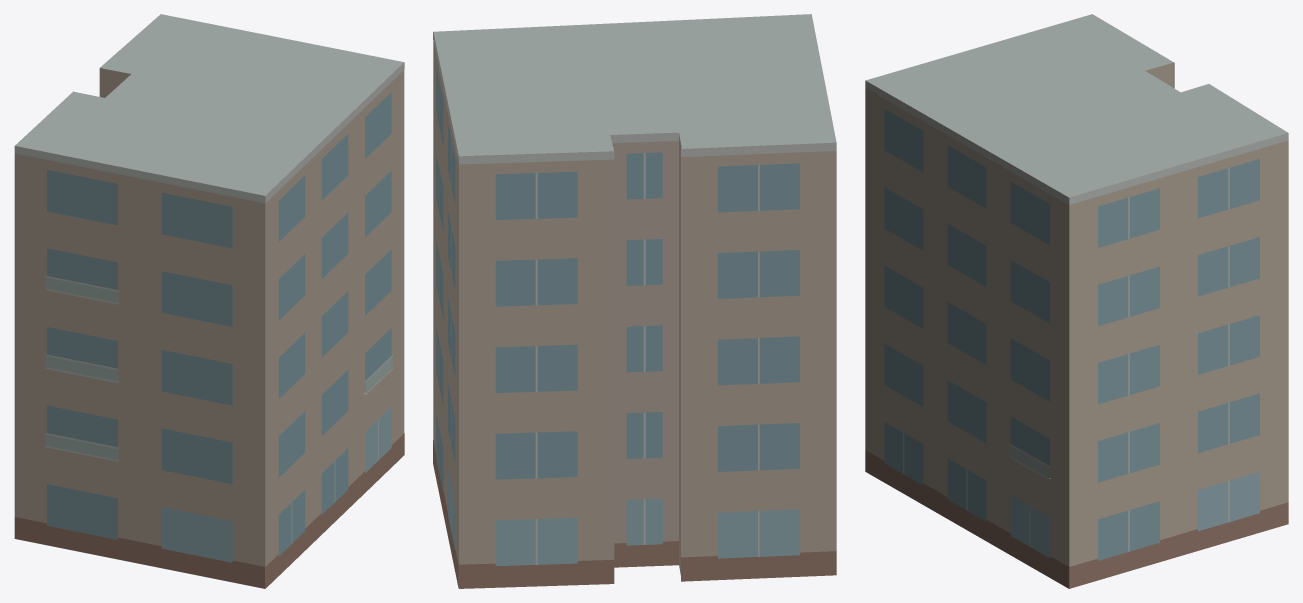
Rendered from survey-upis-32604636.glb.
3 renders of one model, left to right at view 1: azimuth 30°, elevation 25°; view 2: azimuth 150°, elevation 25°; view 3: azimuth 270°, elevation 25°, orthographic. The views are drawn at different scales.
Visible parts, largest first — view 1: survey-upis-32604636.tmp; view 2: survey-upis-32604636.tmp; view 3: survey-upis-32604636.tmp.
Part boxes in pixels (<box>): survey-upis-32604636.tmp: <box>14,14,404,588</box>; survey-upis-32604636.tmp: <box>433,14,836,588</box>; survey-upis-32604636.tmp: <box>865,14,1288,588</box>.
Bounding box in the file's own units: 12.89 × 12.8 × 12.56.
